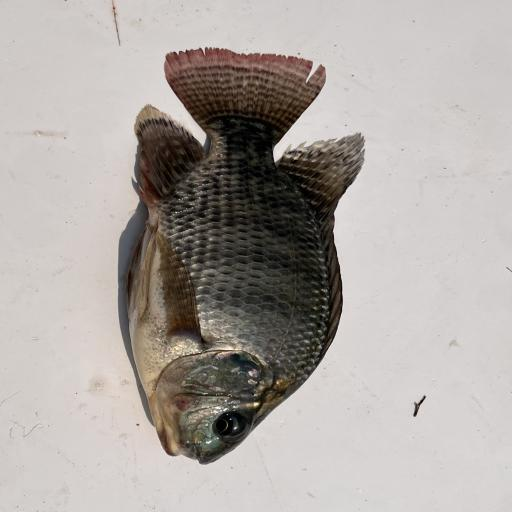Tilapia: (126, 47, 366, 465)
